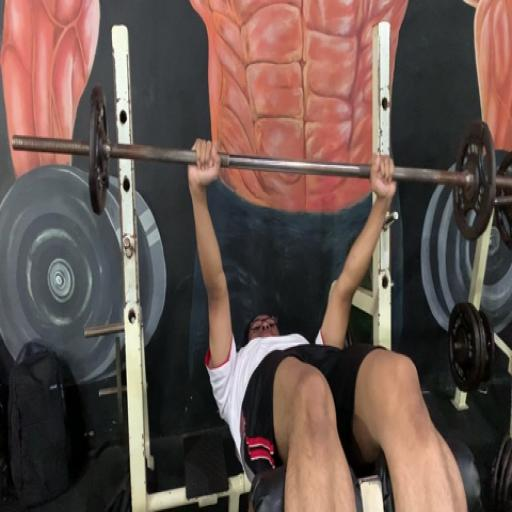exercise: (184, 135, 474, 511)
